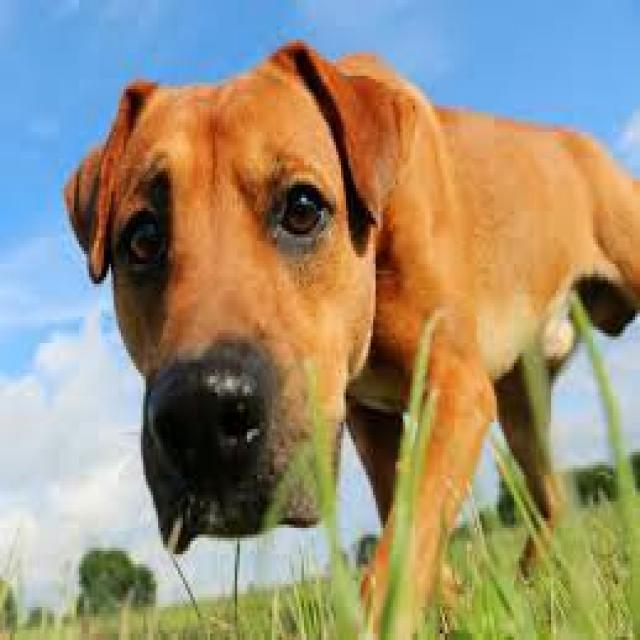dog: (64, 40, 638, 597)
